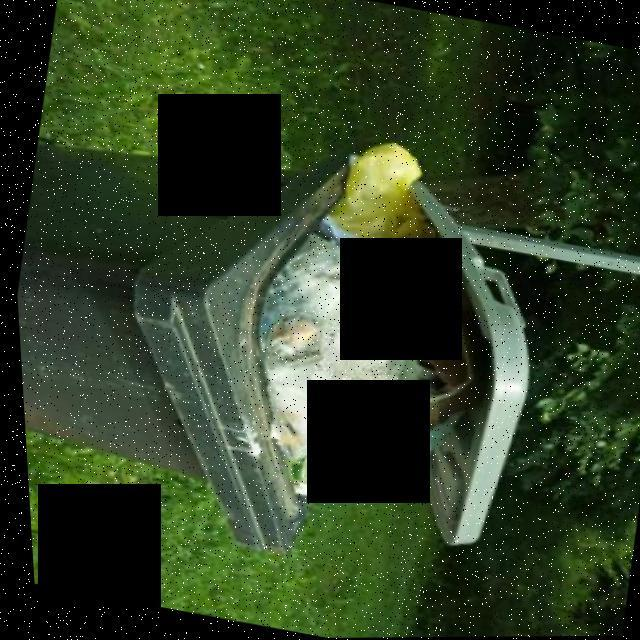bin: (4, 85, 399, 557)
